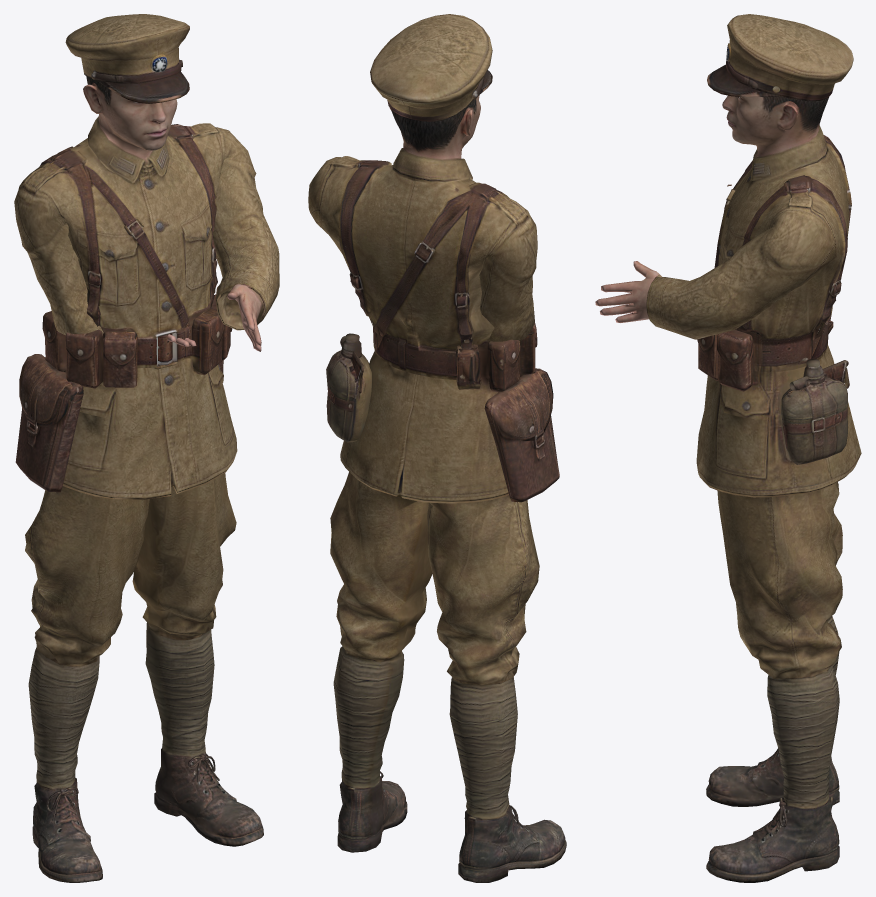
Rendered from ProvidedEnemy.glb.
The picture shows the model from 3 angles, left to right: view 1: azimuth 30°, elevation 25°; view 2: azimuth 150°, elevation 25°; view 3: azimuth 270°, elevation 25°; orthographic projection.
Visible parts, largest first — view 1: EnemyReadyBody; view 2: EnemyReadyBody; view 3: EnemyReadyBody.
Part boxes in pixels (x1,y1,x2,y2): EnemyReadyBody: (14, 14, 279, 882); EnemyReadyBody: (308, 14, 566, 882); EnemyReadyBody: (595, 14, 861, 882).
Size of the model in its own units: 0.7412 by 2.55 by 0.7594.
1 material, 1 textured.
